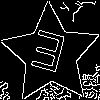E: (25, 29, 68, 83)
